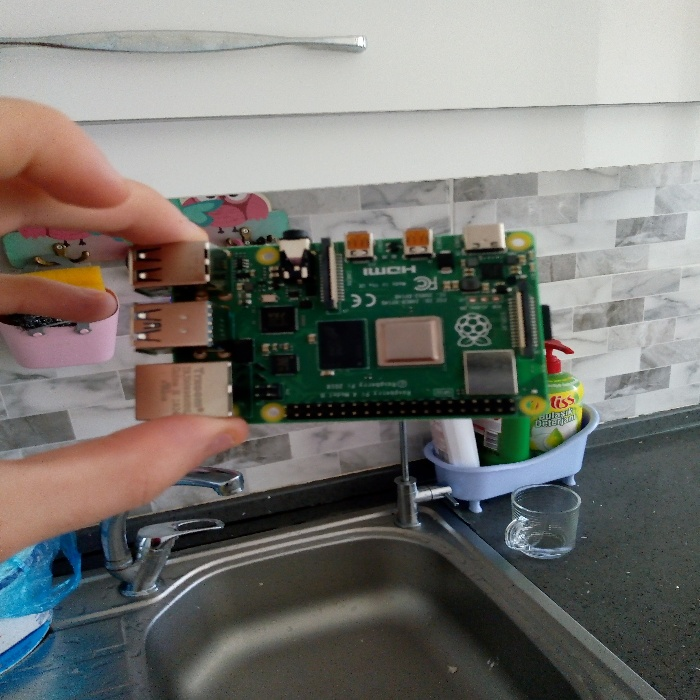raspberry: (118, 201, 559, 438)
